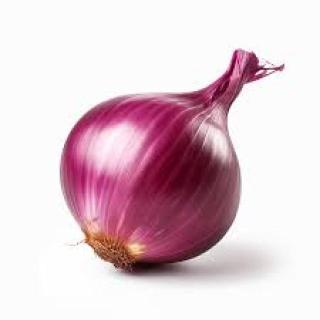Bawang Merah: (55, 46, 289, 275)
